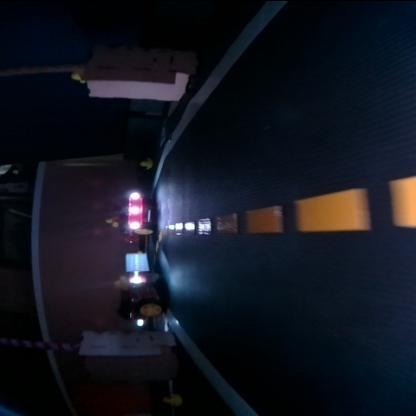Duckie: (70, 66, 84, 82), (164, 392, 182, 404), (140, 157, 152, 167)
Duckiebot: (118, 252, 163, 324), (118, 190, 154, 240)
